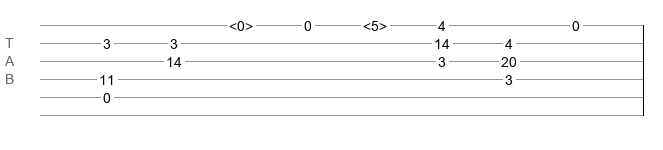0: (103, 90, 111, 100), (304, 18, 312, 28), (572, 18, 580, 28)
11: (99, 72, 115, 82)
14: (166, 54, 182, 64), (434, 36, 450, 46)
20: (501, 54, 517, 64)
3: (103, 36, 111, 46), (170, 36, 178, 46), (438, 54, 446, 64), (505, 72, 513, 82)
4: (438, 18, 446, 28), (505, 36, 513, 46)
harmonic: (229, 18, 253, 28), (363, 18, 387, 28)
